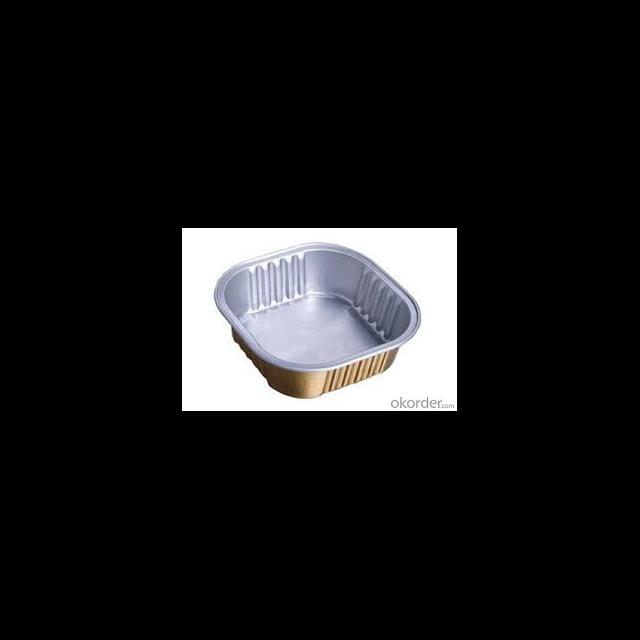metal: (210, 242, 422, 398)
